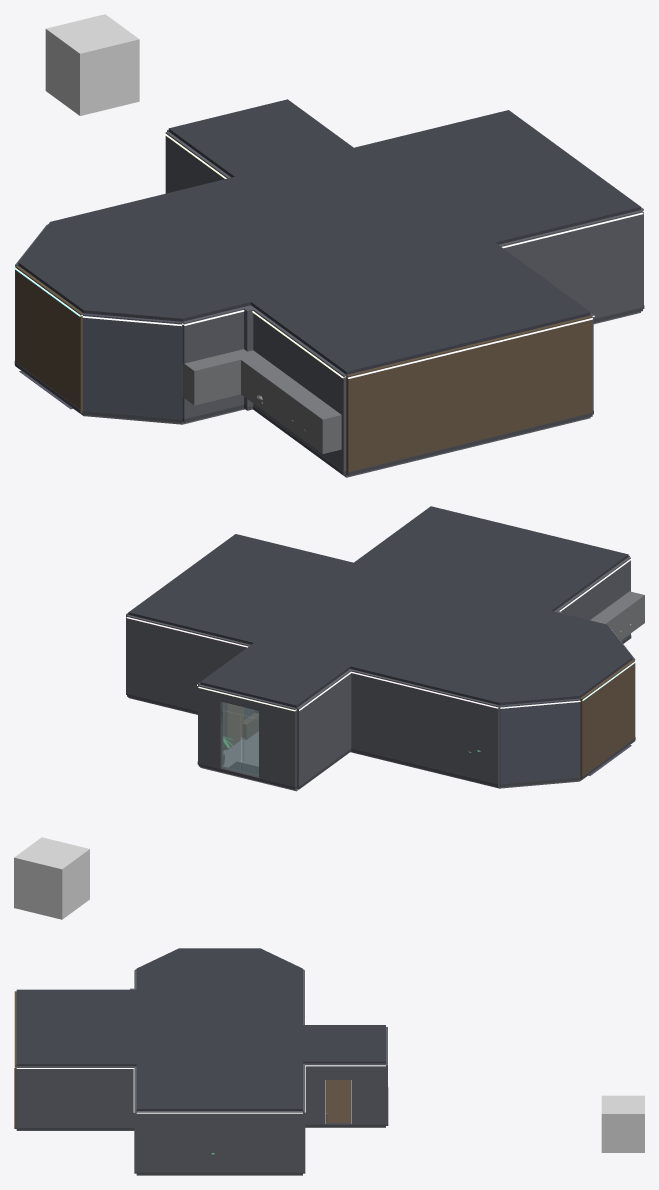
Rendered from mancave.glb.
The picture shows the model from 3 angles, top to bottom: view 1: azimuth 30°, elevation 25°; view 2: azimuth 150°, elevation 25°; view 3: azimuth 270°, elevation 25°; orthographic projection. The views are drawn at different scales.
Parts seen in each view (by area): view 1: strop_hlavni, strop_vyklenek, zed_vyklenek_s_latky, zed_sikma_sv, zed_s1, akva_zed, strop_predsin, Cube, akva_telo, zed_pc_latky, zed_predsin_v, zed_vyklenek_s_latky_lista (+1 smaller); view 2: strop_hlavni, strop_vyklenek, zed_j1, zed_j2, zed_sikma_jv, strop_predsin, zed_predsin_hala, Cube, zed_predsin_v, zed_pc_latky, akva_zed, akva_telo (+4 smaller); view 3: strop_hlavni, zed_z, strop_vyklenek, zed_vyklenek_z, zed_predsin_z, strop_predsin, Cube, satna_dvere, zed_z_lista, zed_vyklenek_s_latky, zed_vyklenek_z_lista.
Part boxes in pixels (left/top/right/bottom): strop_hlavni: left=18, top=110, right=640, bottom=321; strop_vyklenek: left=251, top=242, right=590, bottom=374; zed_vyklenek_s_latky: left=346, top=315, right=592, bottom=475; zed_sikma_sv: left=83, top=313, right=182, bottom=419; zed_s1: left=498, top=210, right=642, bottom=318; akva_zed: left=182, top=305, right=346, bottom=474; strop_predsin: left=168, top=99, right=353, bottom=177; Cube: left=45, top=14, right=139, bottom=115; akva_telo: left=182, top=349, right=341, bottom=453; zed_pc_latky: left=15, top=265, right=83, bottom=413; zed_predsin_v: left=165, top=131, right=230, bottom=193; zed_vyklenek_s_latky_lista: left=346, top=412, right=592, bottom=475; strop_hlavni: left=128, top=534, right=632, bottom=705; strop_vyklenek: left=354, top=506, right=628, bottom=611; zed_j1: left=349, top=669, right=499, bottom=786; zed_j2: left=127, top=615, right=256, bottom=712; zed_sikma_jv: left=499, top=698, right=580, bottom=784; strop_predsin: left=200, top=643, right=350, bottom=707; zed_predsin_hala: left=199, top=684, right=296, bottom=786; Cube: left=14, top=837, right=89, bottom=919; zed_predsin_v: left=296, top=670, right=351, bottom=789; zed_pc_latky: left=580, top=660, right=634, bottom=779; akva_zed: left=554, top=557, right=630, bottom=641; akva_telo: left=590, top=591, right=644, bottom=640; strop_hlavni: left=136, top=948, right=302, bottom=1110; zed_z: left=136, top=1111, right=302, bottom=1171; strop_vyklenek: left=16, top=989, right=136, bottom=1066; zed_vyklenek_z: left=16, top=1066, right=135, bottom=1127; zed_predsin_z: left=305, top=1063, right=385, bottom=1124; strop_predsin: left=303, top=1025, right=385, bottom=1063; Cube: left=601, top=1095, right=644, bottom=1152; satna_dvere: left=326, top=1080, right=350, bottom=1122; zed_z_lista: left=136, top=1172, right=302, bottom=1174; zed_vyklenek_s_latky: left=14, top=991, right=16, bottom=1128; zed_vyklenek_z_lista: left=16, top=1127, right=134, bottom=1129.
Size of the model in its own units: 17.95 by 4.3 by 29.23.
